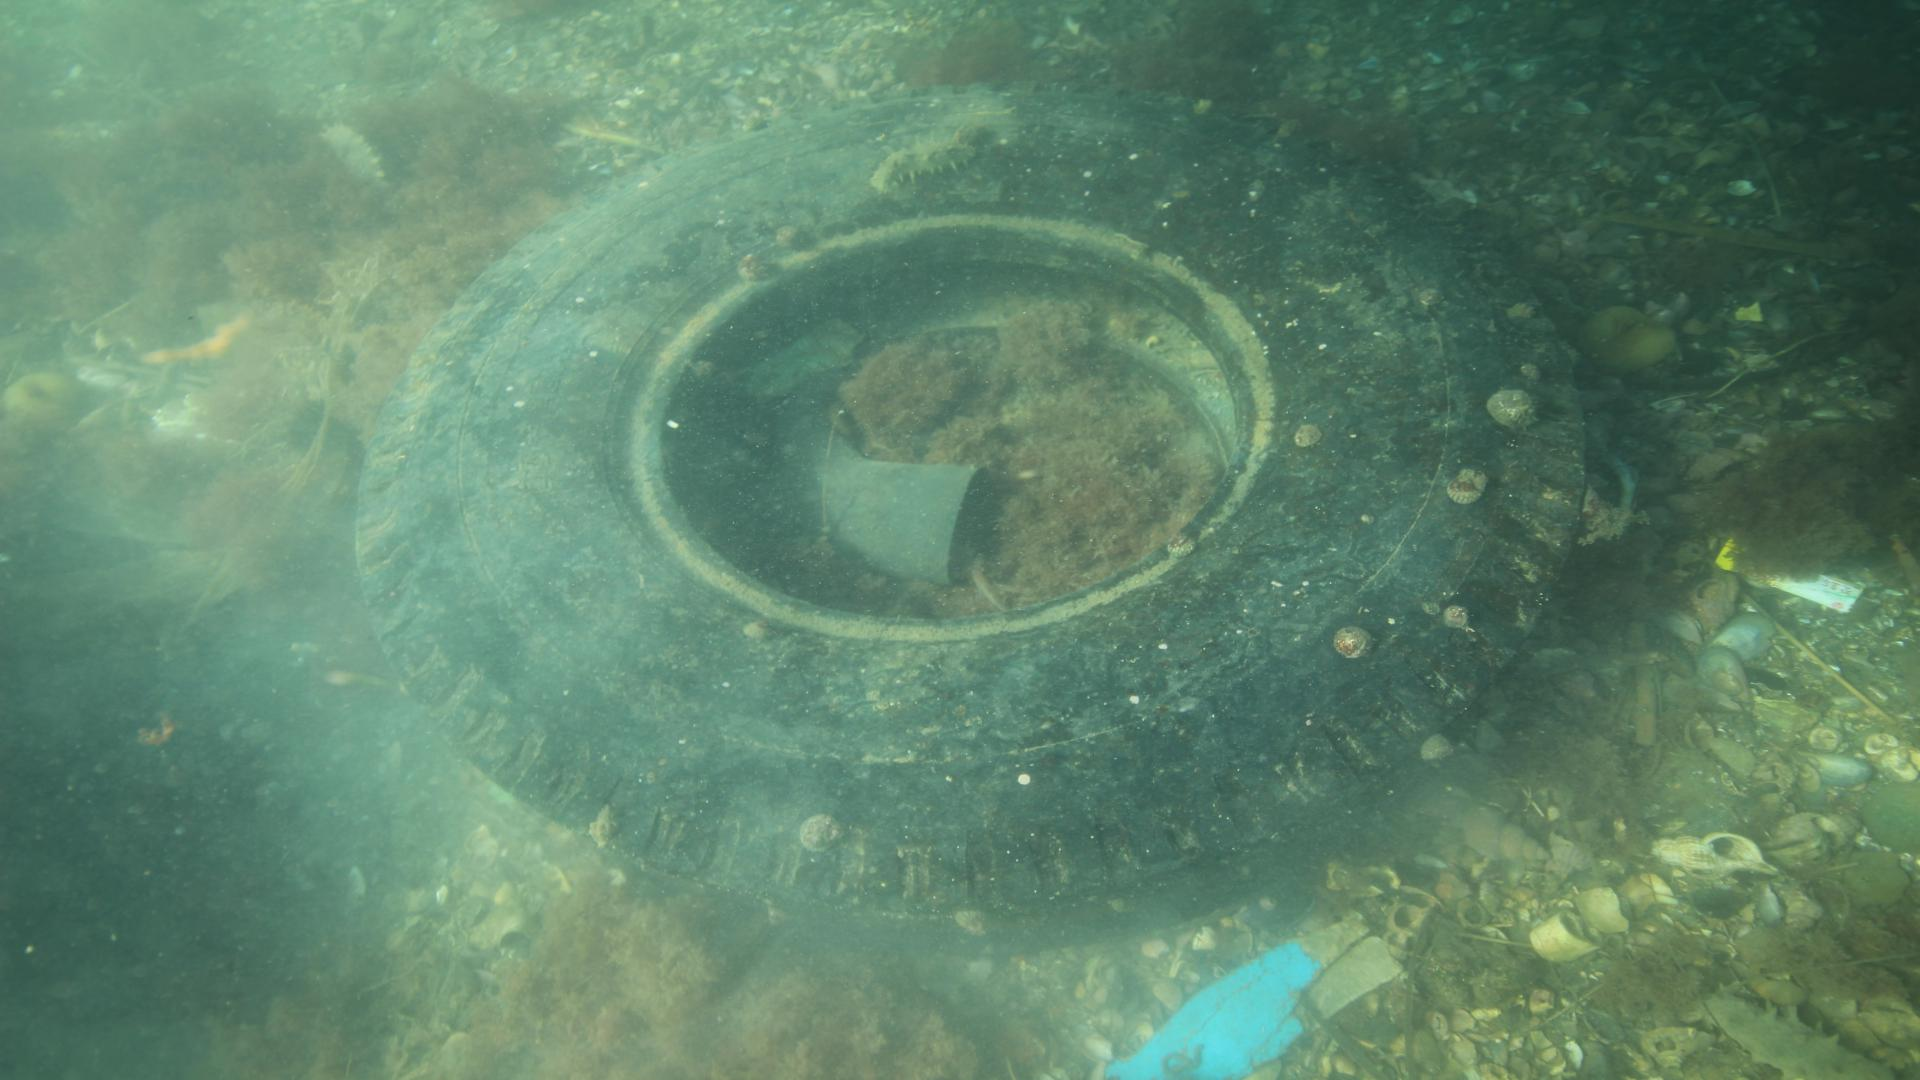tire: (352, 79, 1586, 959)
